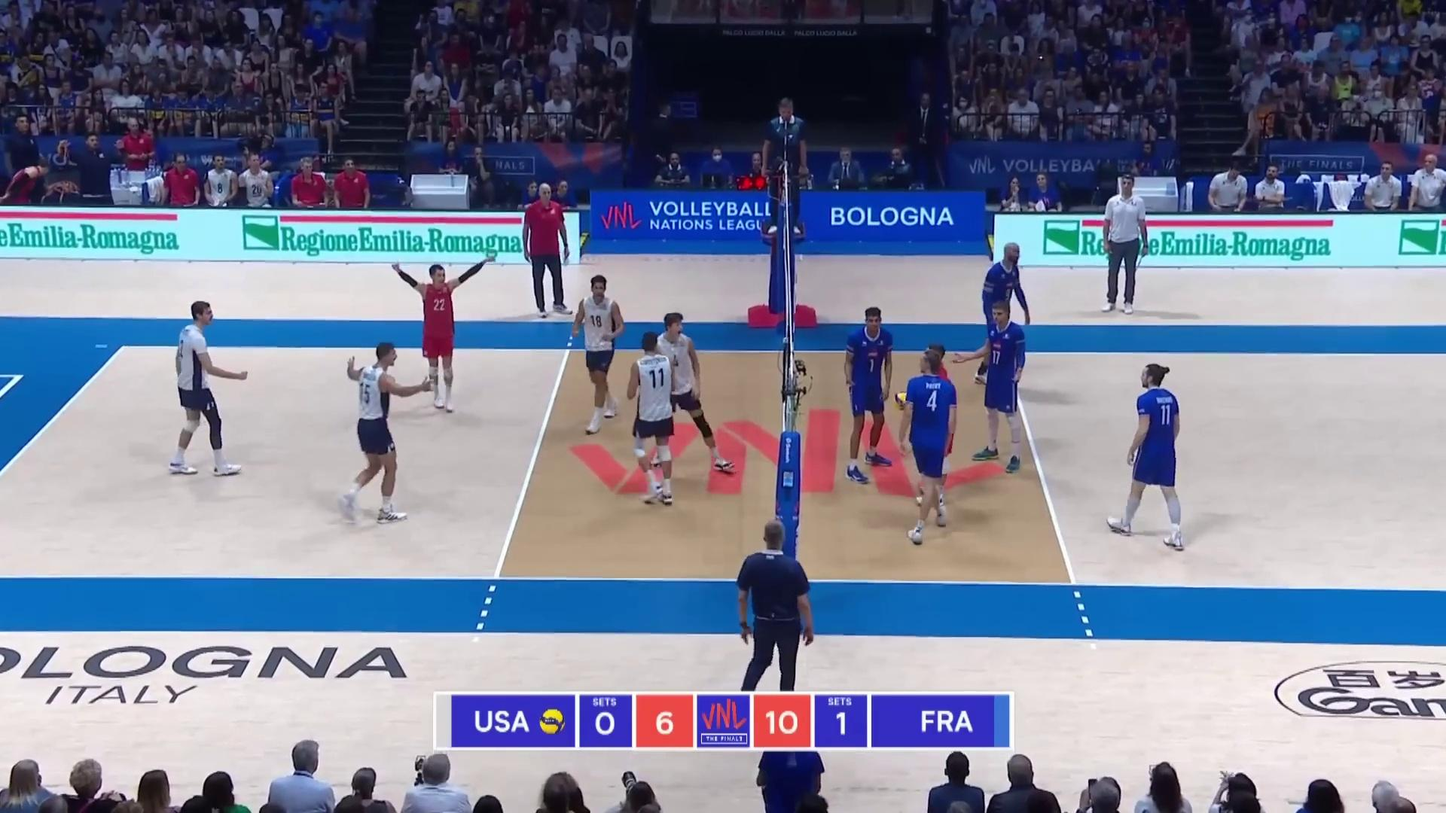player: (338, 346, 424, 522), (1107, 361, 1188, 545), (647, 314, 737, 475), (896, 348, 966, 544), (165, 304, 243, 475), (402, 259, 477, 409), (964, 302, 1029, 473), (619, 335, 681, 509), (843, 305, 899, 479), (570, 274, 622, 432), (978, 242, 1029, 385), (920, 343, 957, 508)
refree: (738, 523, 815, 696), (765, 100, 808, 233)
